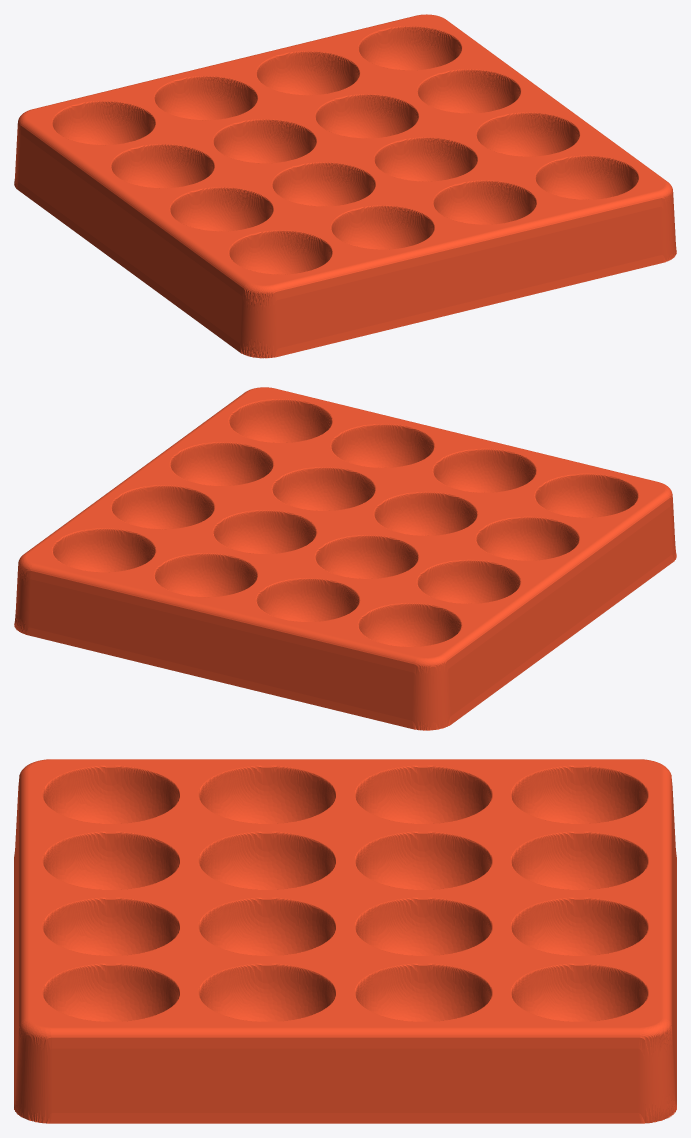
The model's file is mold.glb.
3 views of the same model, one above another, from view 1: azimuth 30°, elevation 25°; view 2: azimuth 150°, elevation 25°; view 3: azimuth 270°, elevation 25° (orthographic). The views are drawn at different scales.
Parts seen in each view (by area): view 1: geometry_0; view 2: geometry_0; view 3: geometry_0.
Boxes of the visible parts, left/top/right/bottom form: geometry_0: left=14, top=14, right=676, bottom=358; geometry_0: left=14, top=387, right=676, bottom=730; geometry_0: left=14, top=759, right=676, bottom=1123.
Bounding box in the file's own units: 0.1569 × 0.0235 × 0.1569.
